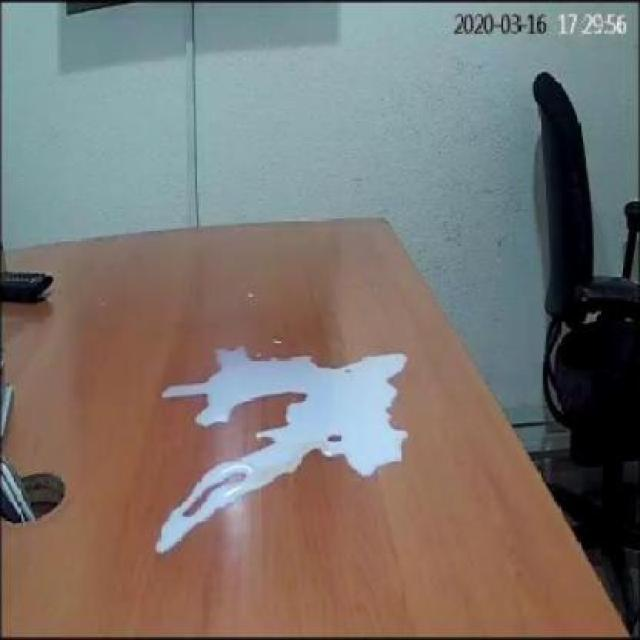spillage: (155, 348, 408, 554)
